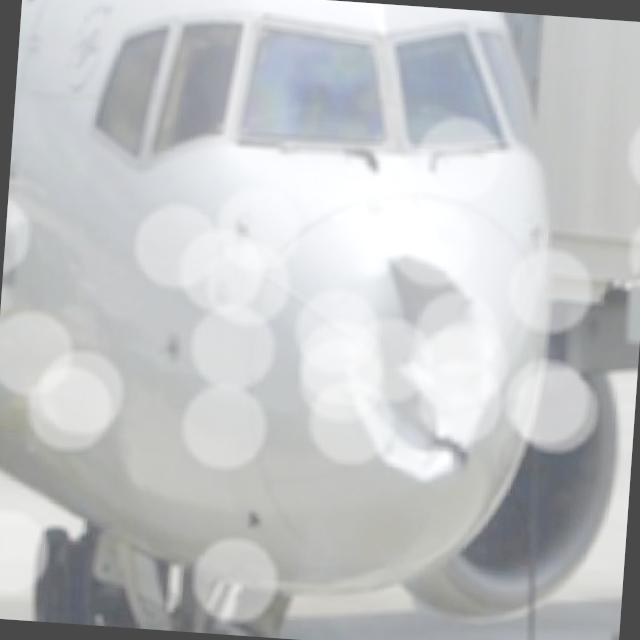dent: (340, 245, 496, 486)
